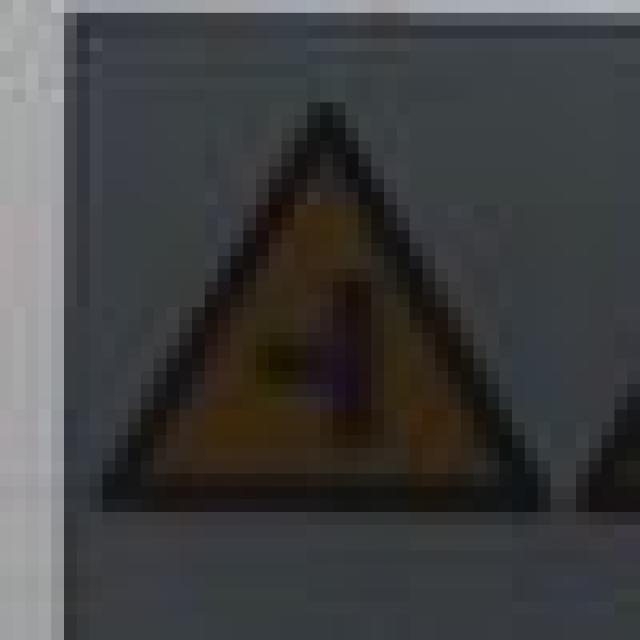side road left: (85, 92, 561, 507)
